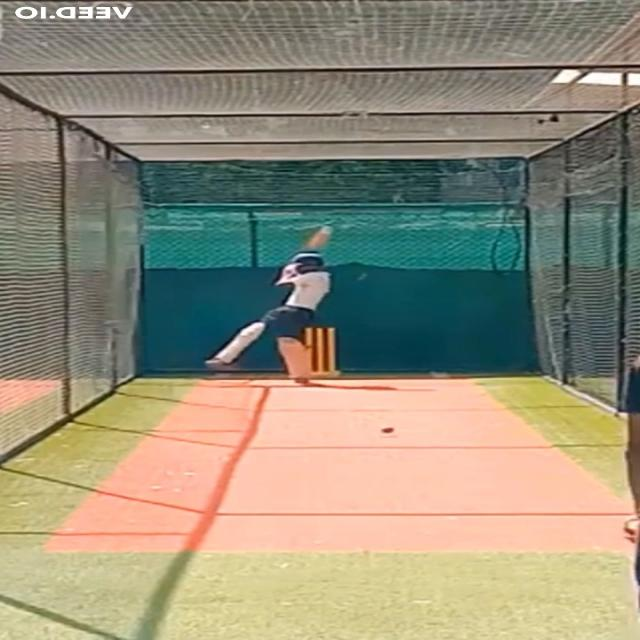ball: (382, 425, 396, 434)
stump: (303, 326, 341, 379)
